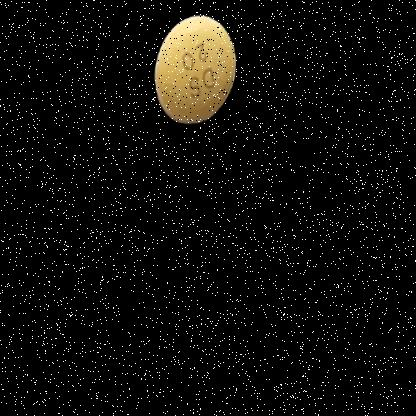rabeparzole20: (141, 0, 256, 157)
